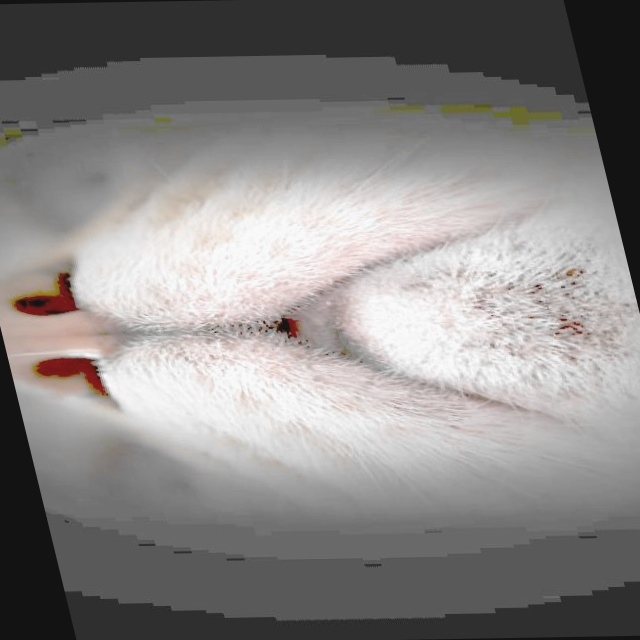acne: (441, 266, 640, 364)
